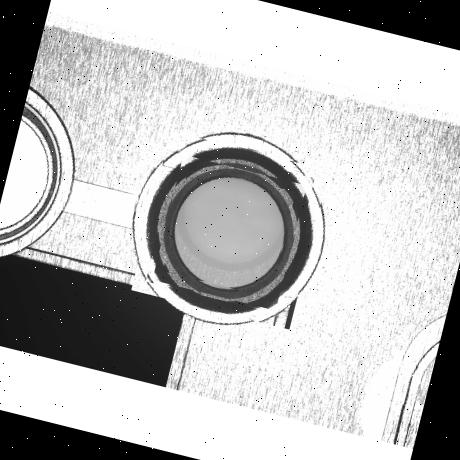Hole: (130, 130, 330, 330)
Hole2: (144, 143, 316, 315)
Hole3: (152, 154, 308, 310)
Hole4: (162, 164, 296, 297)
